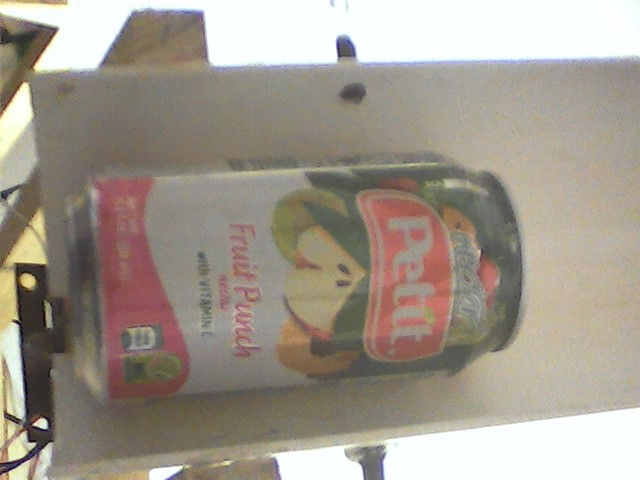lata: (55, 145, 540, 407)
